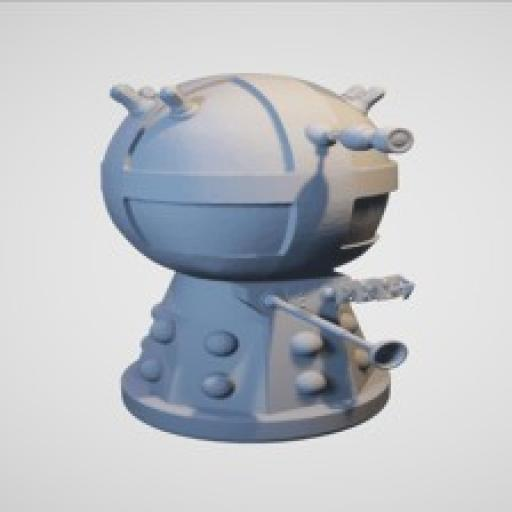dalek: (73, 68, 417, 442)
